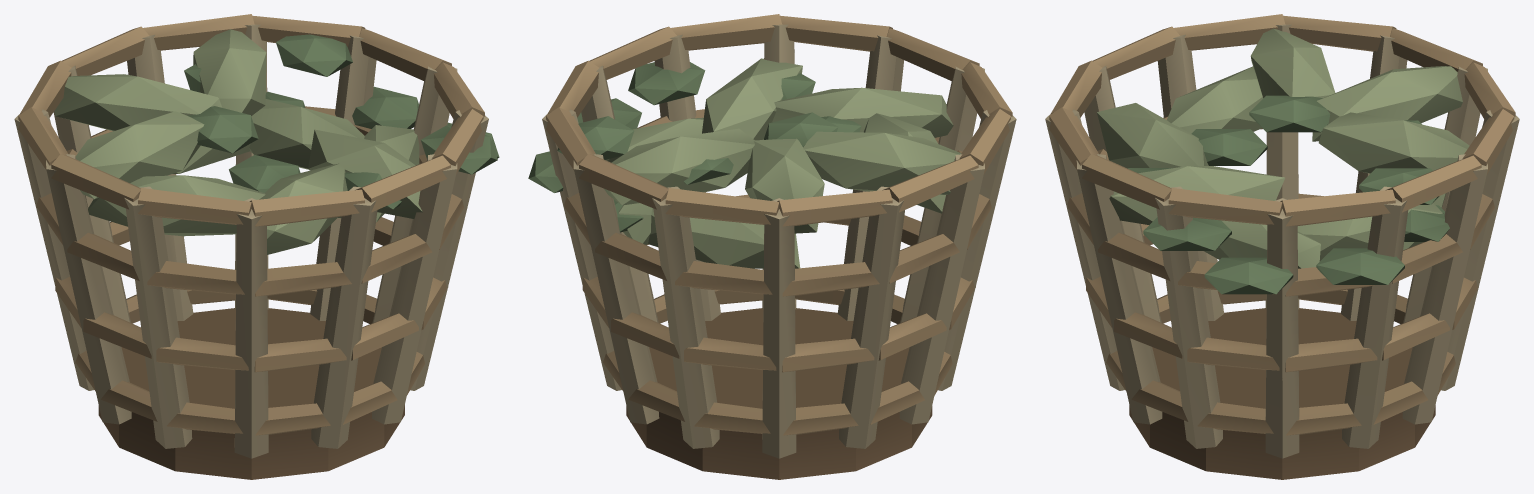
The model's file is basket_fish.glb.
3 renders of one model, left to right at view 1: azimuth 30°, elevation 25°; view 2: azimuth 150°, elevation 25°; view 3: azimuth 270°, elevation 25°, orthographic.
Visible parts, largest first — view 1: basket_fish; view 2: basket_fish; view 3: basket_fish.
Boxes of the visible parts, box(x1,y1,x2,y2) form: basket_fish: box(14, 14, 499, 479); basket_fish: box(528, 14, 1016, 479); basket_fish: box(1045, 14, 1519, 479).
Bounding box in the file's own units: 0.8084 × 0.565 × 0.7749.
